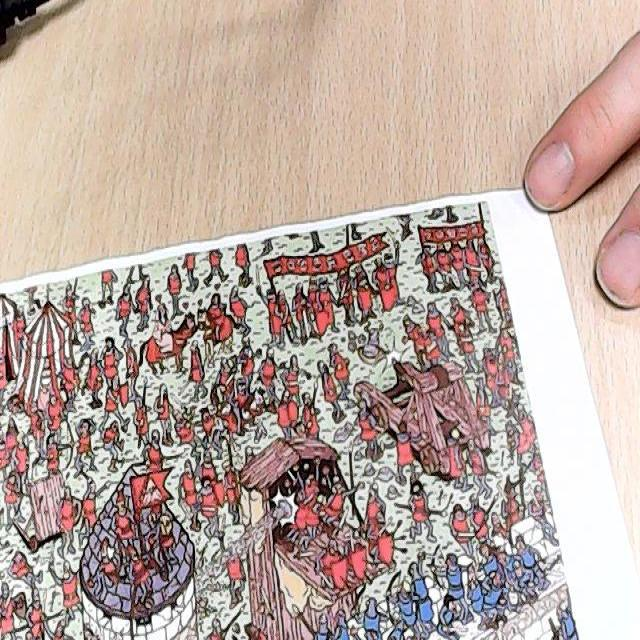waldo: (290, 419, 308, 442)
